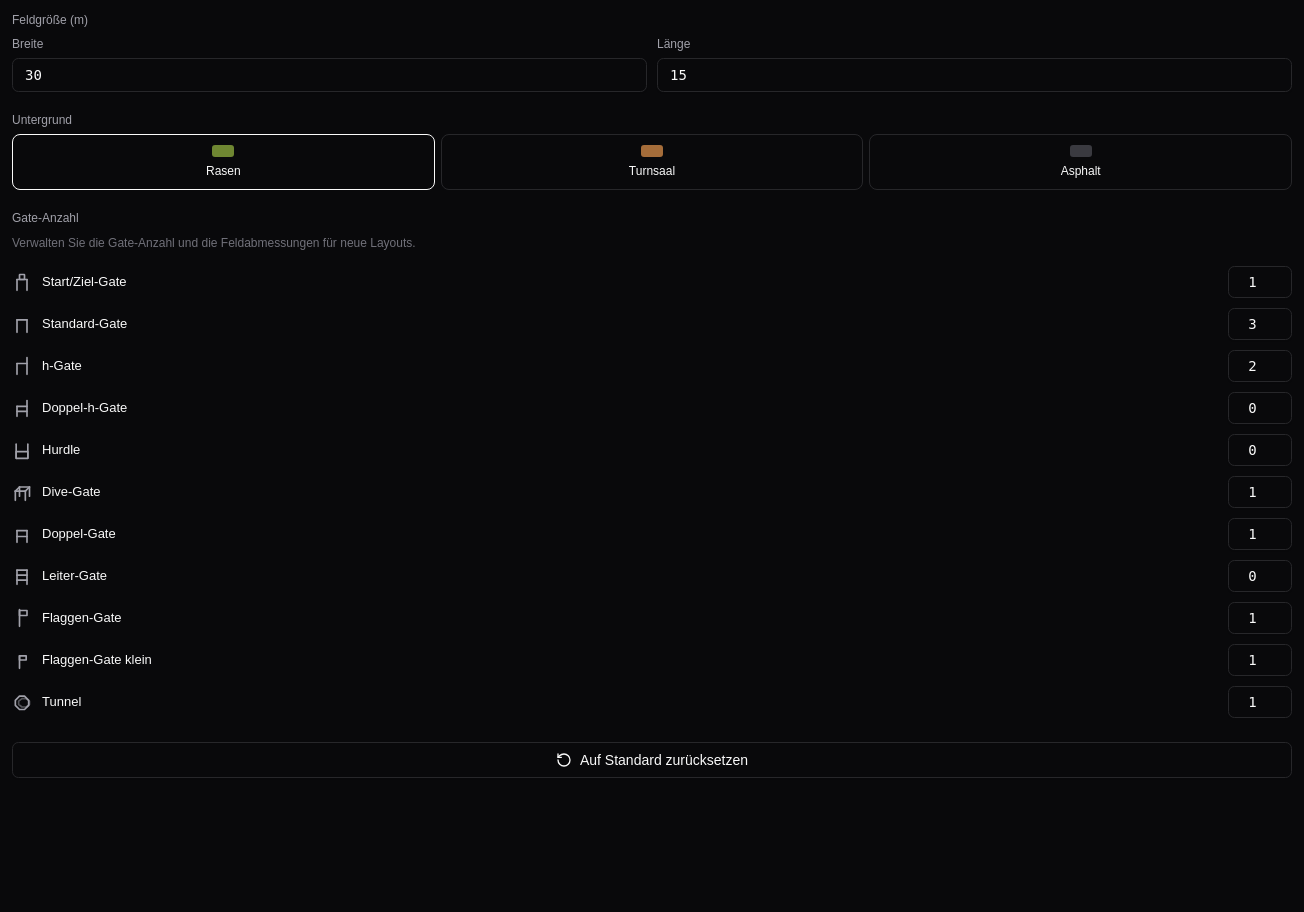
Test: GateConfigPanel › resets invalid width input back to current value on blur
Replace the text in the number field labelled "Breite" with "0" at (330, 75), box [12,58,647,92]
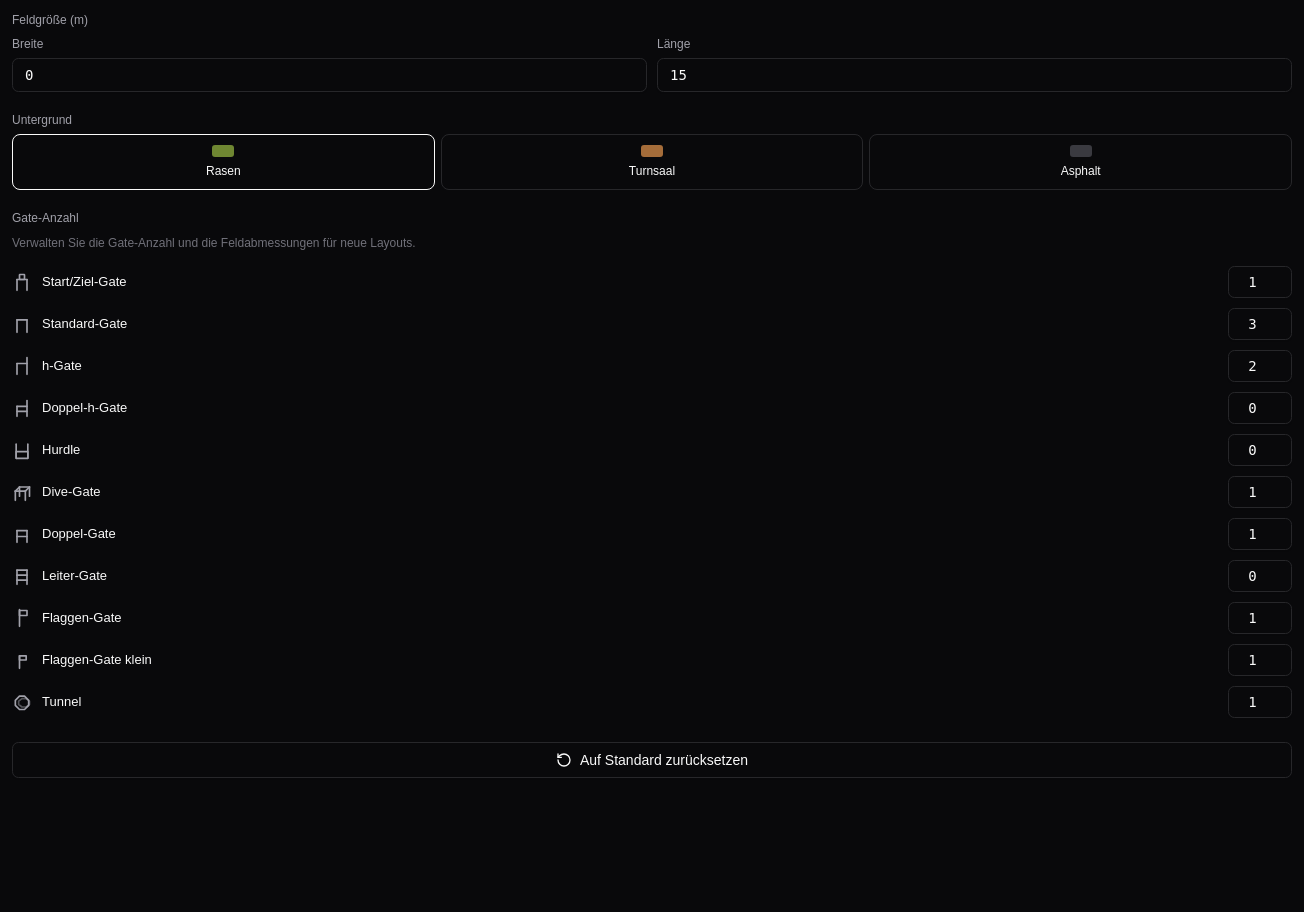
Leave the number field labelled "Breite", box [12,58,647,92]
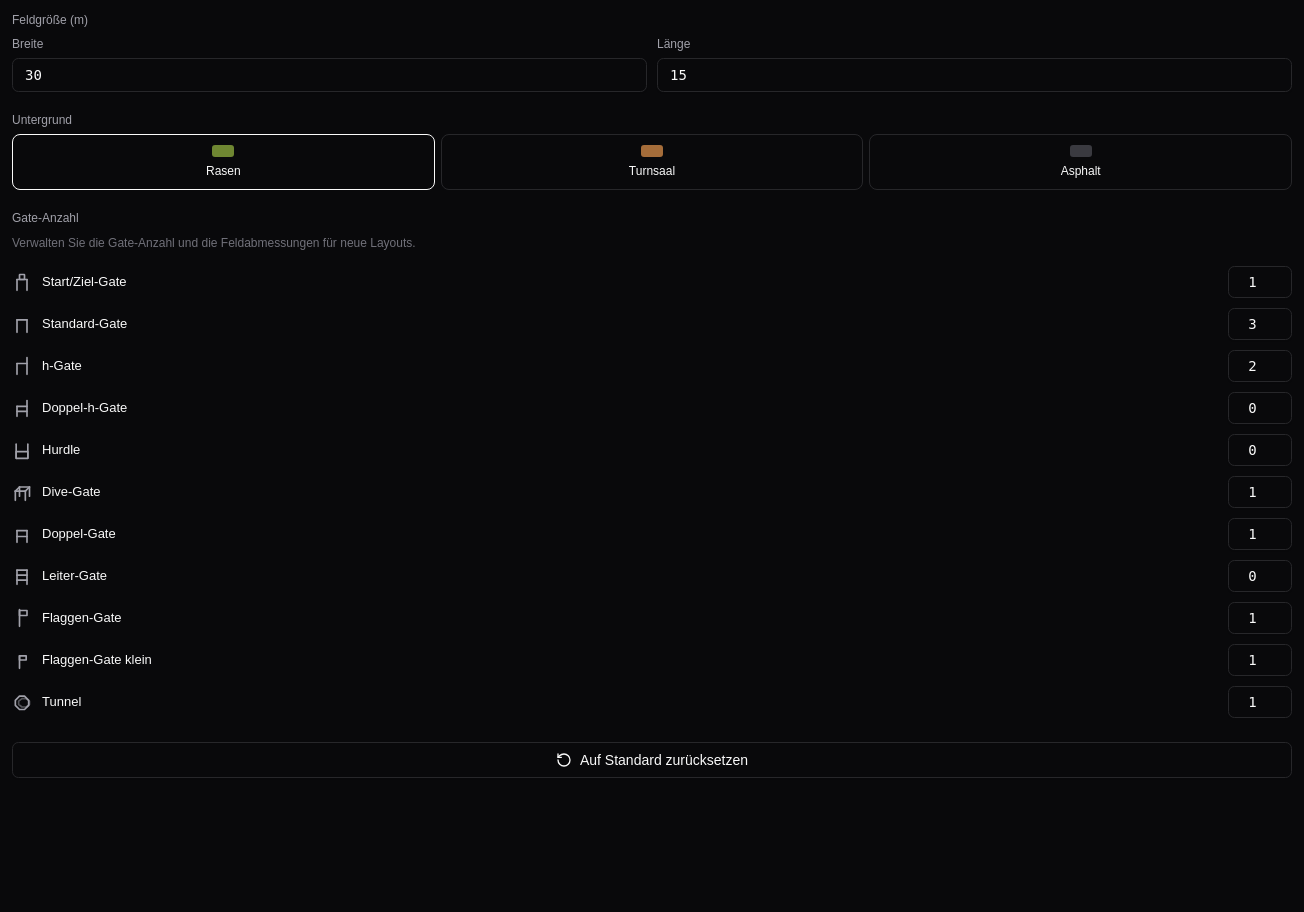
expect the number field labelled "Breite" holds "30": met, box [12,58,647,92]
